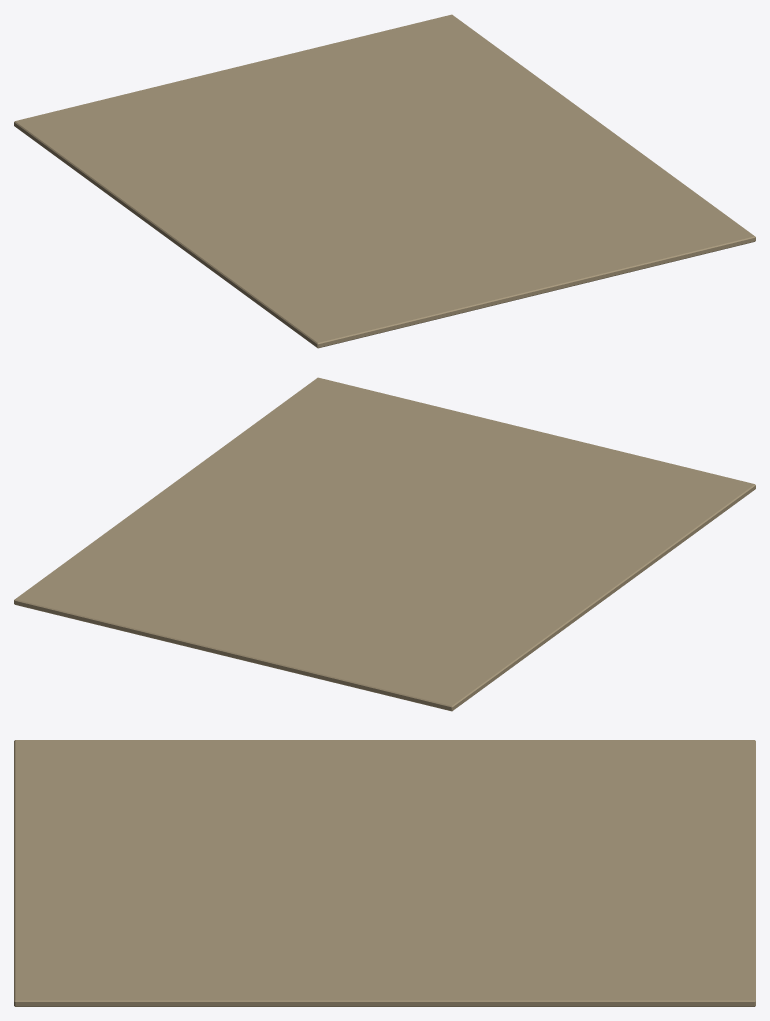
Rendered from FTF_Road_CountryGravel_Straight_5x6m.glb.
The picture shows the model from 3 angles, top to bottom: view 1: azimuth 30°, elevation 25°; view 2: azimuth 150°, elevation 25°; view 3: azimuth 270°, elevation 25°; orthographic projection. The views are drawn at different scales.
Visible parts, largest first — view 1: FTF_Road_CountryGravel_Straight_5x6m_Mesh; view 2: FTF_Road_CountryGravel_Straight_5x6m_Mesh; view 3: FTF_Road_CountryGravel_Straight_5x6m_Mesh.
Boxes of the visible parts, x1,y1,x2,y2 form: FTF_Road_CountryGravel_Straight_5x6m_Mesh: [14, 14, 755, 348]; FTF_Road_CountryGravel_Straight_5x6m_Mesh: [14, 377, 755, 711]; FTF_Road_CountryGravel_Straight_5x6m_Mesh: [14, 740, 755, 1006].
Bounding box in the file's own units: 5 × 0.06 × 6.
